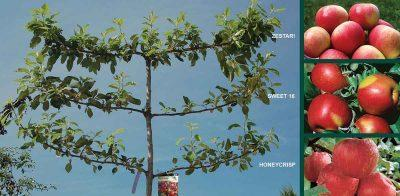apple: (333, 138, 379, 179), (356, 71, 399, 114), (306, 93, 353, 132), (318, 165, 359, 195), (328, 20, 365, 51), (310, 63, 348, 92), (368, 24, 400, 58), (313, 5, 349, 30), (357, 173, 396, 196), (303, 26, 331, 58), (305, 151, 331, 183), (349, 3, 381, 26), (353, 114, 389, 134)
